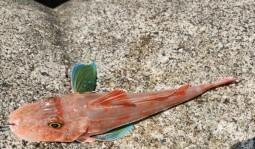fish: (8, 64, 241, 142)
